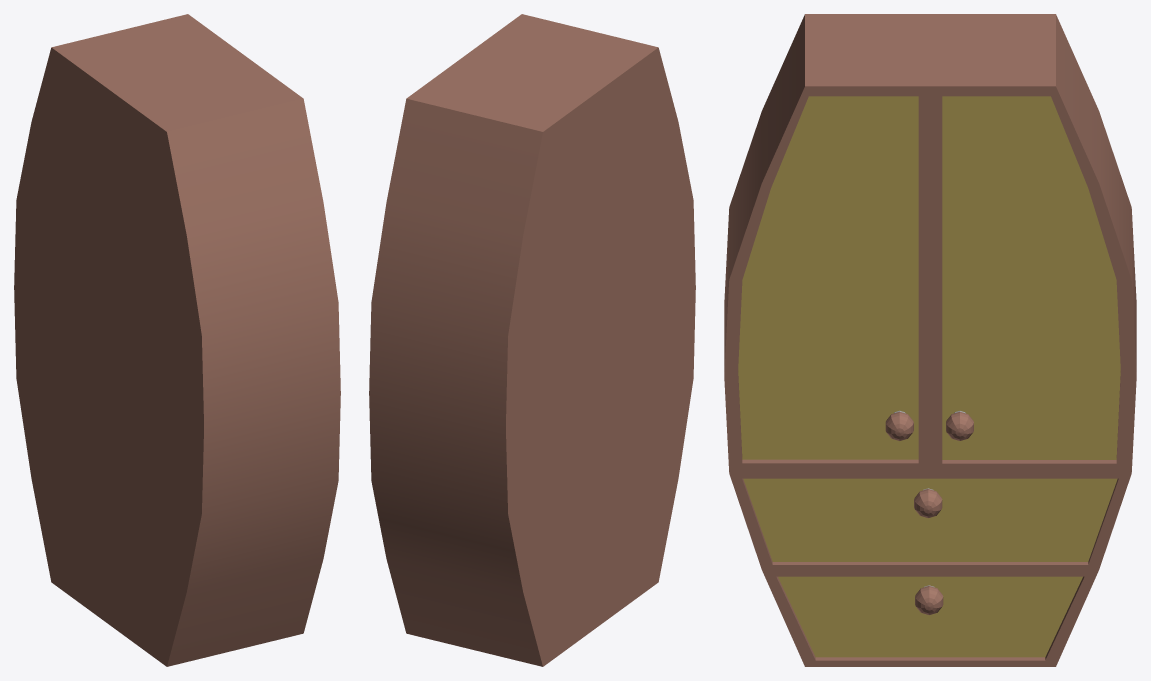
The model's file is kapali_dolap.fbx.
The picture shows the model from 3 angles, left to right: view 1: azimuth 30°, elevation 25°; view 2: azimuth 150°, elevation 25°; view 3: azimuth 270°, elevation 25°; orthographic projection. The views are drawn at different scales.
Parts seen in each view (by area): view 1: polySurface1; view 2: polySurface1; view 3: polySurface1.
Boxes of the visible parts, bbox=[...] form: polySurface1: bbox=[14, 14, 340, 666]; polySurface1: bbox=[369, 14, 695, 666]; polySurface1: bbox=[724, 14, 1136, 666].
Size of the model in its own units: 3.28 by 10.72 by 6.9.
